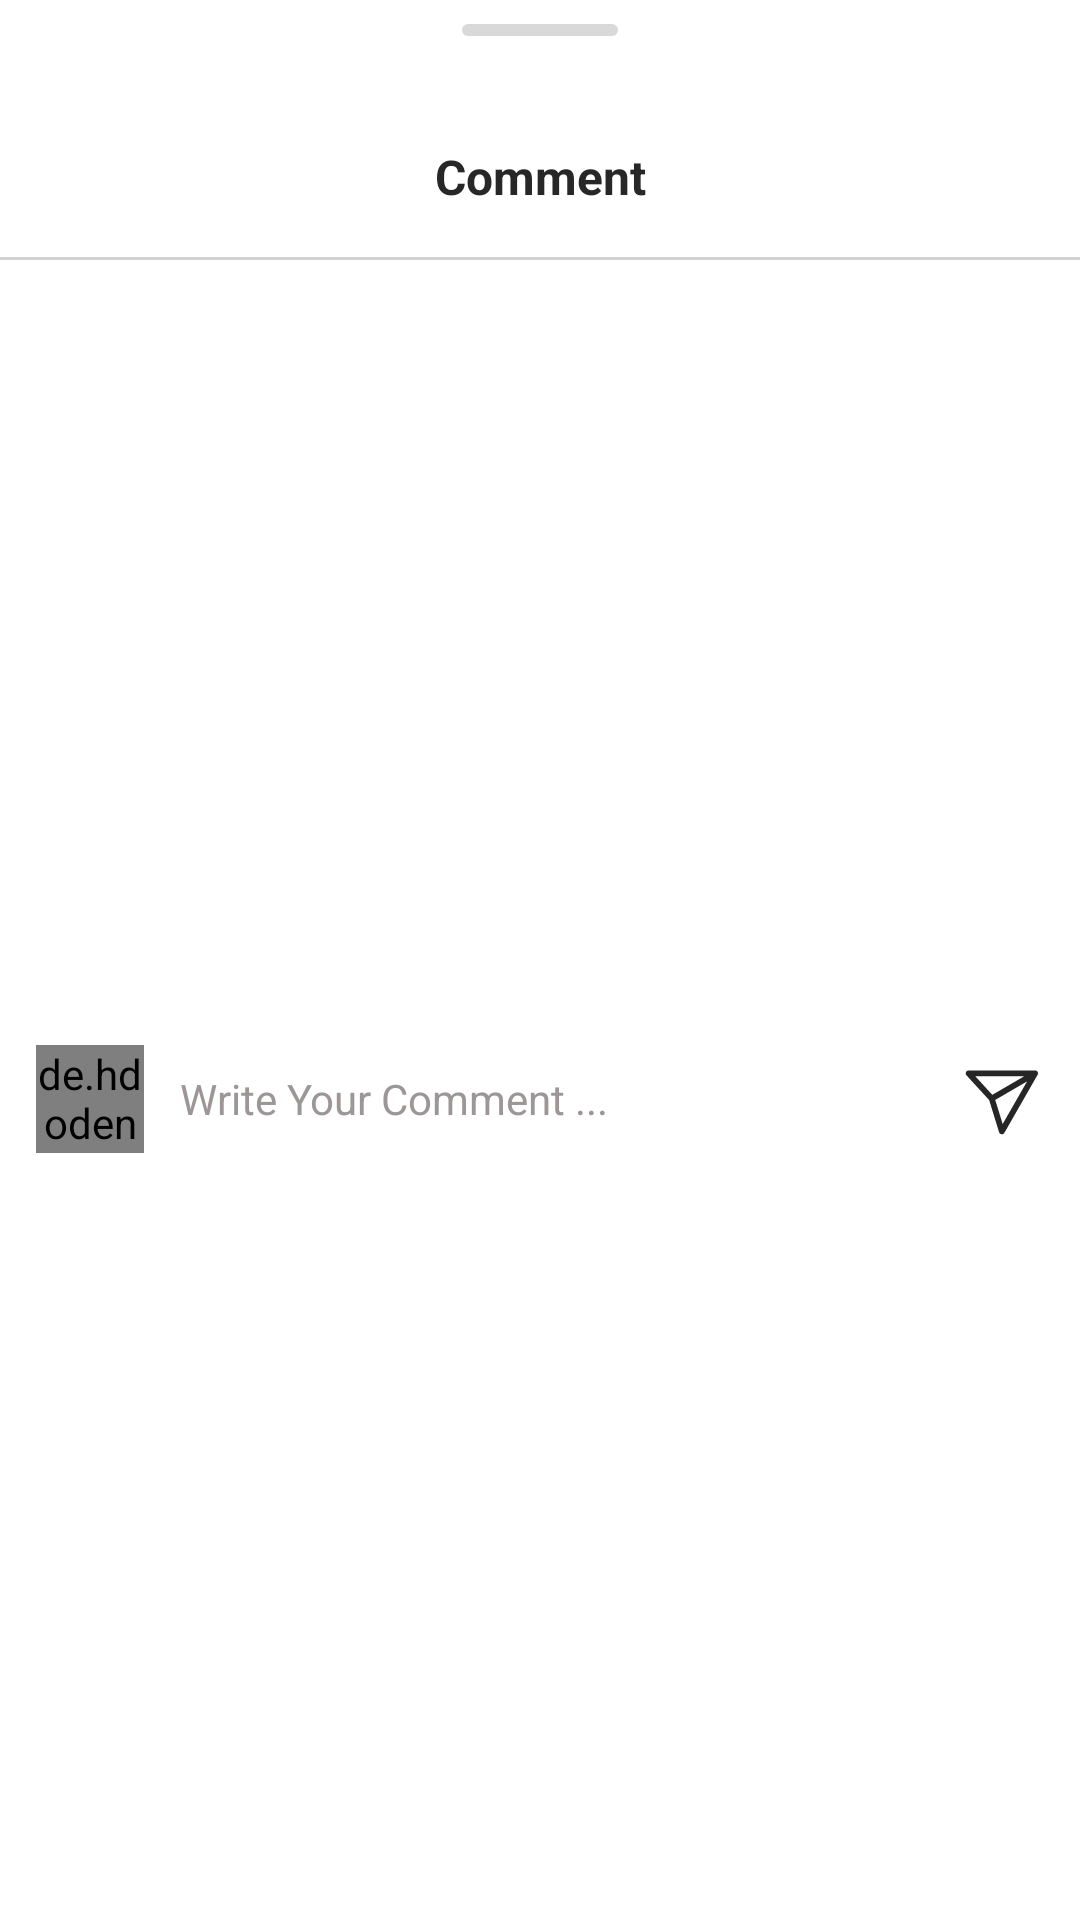

Point at icon controls on the screen. Image size 1080 x 1920, points as (x=x, y=y).
share: (x=1001, y=1102)
